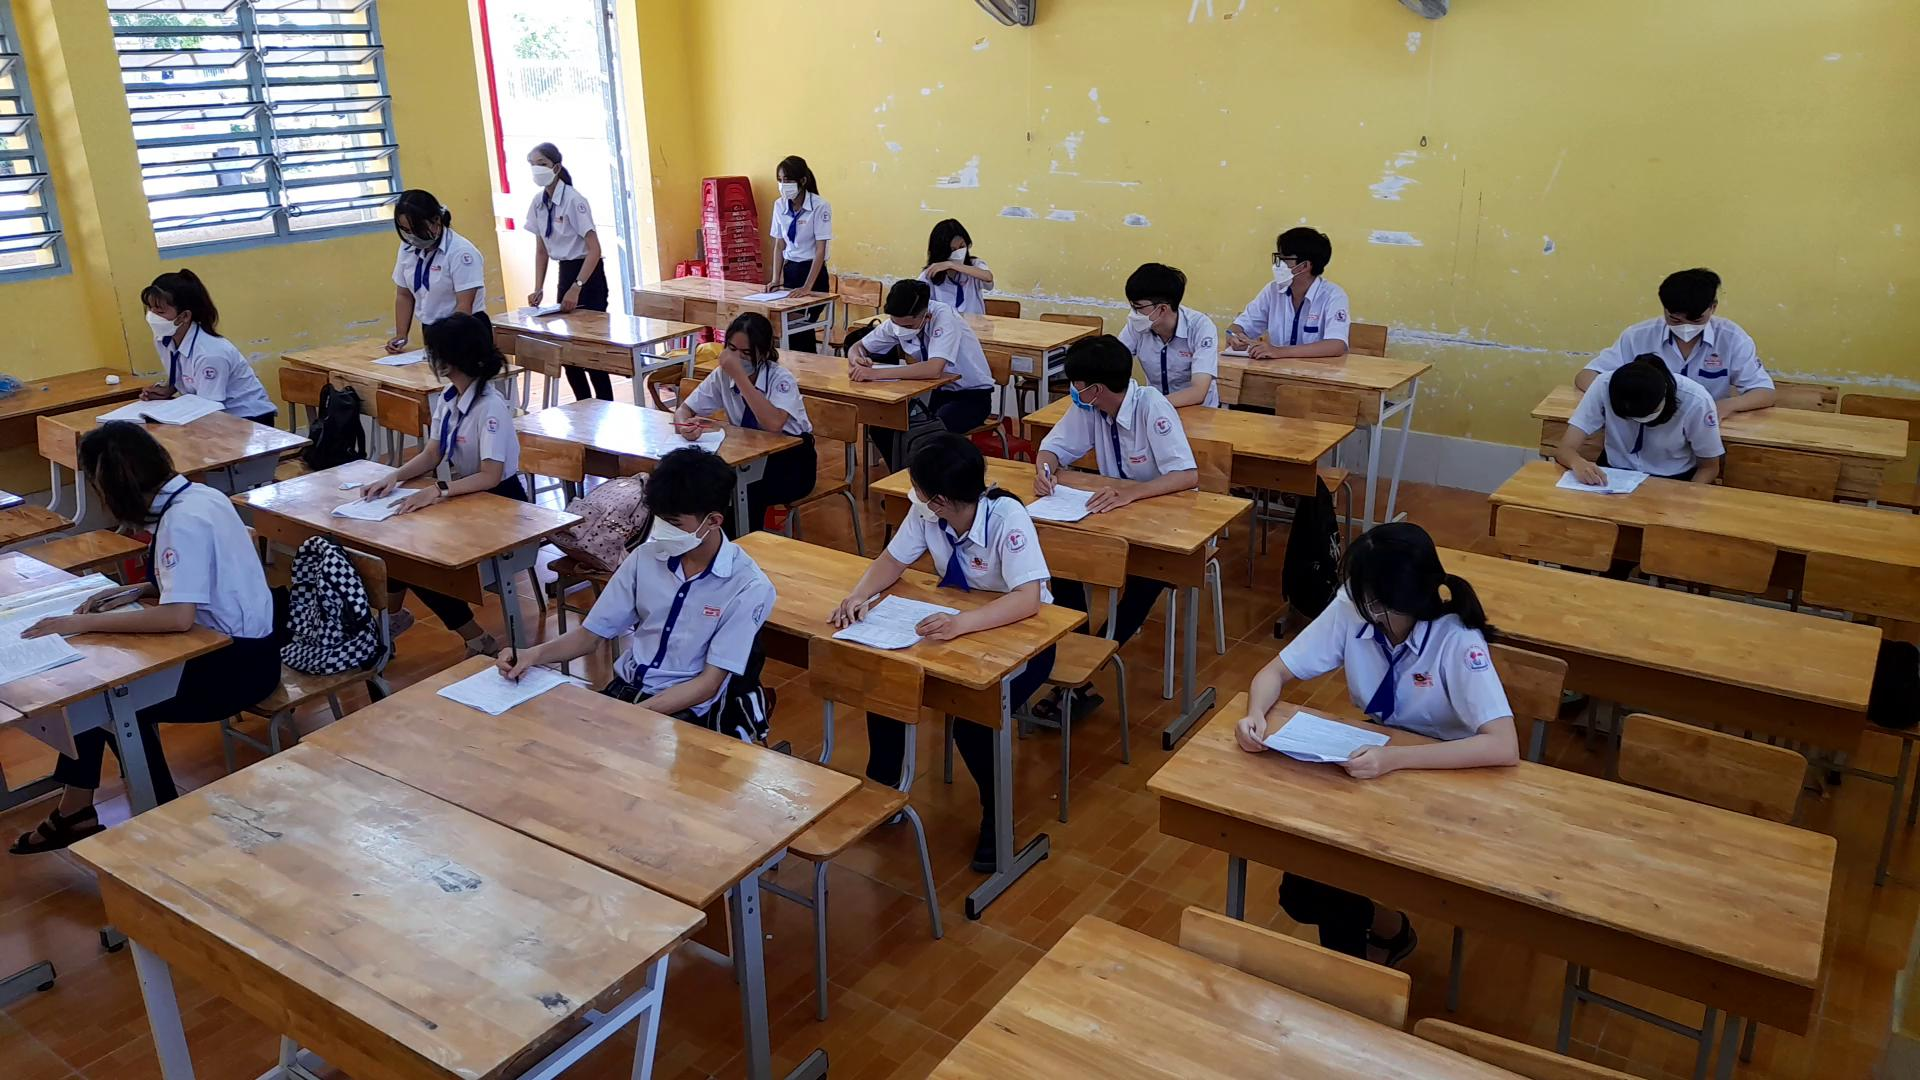Bend Over The Desk: (1593, 336, 1692, 434)
Hand Under Table: (1687, 380, 1731, 496), (181, 347, 231, 427)
Look Around: (1328, 512, 1453, 634), (901, 425, 996, 535), (1044, 307, 1137, 419), (414, 291, 506, 402), (1255, 200, 1346, 295)
Normal: (841, 255, 986, 404)
Stand Up: (493, 135, 615, 311), (738, 141, 833, 302), (375, 185, 487, 313)
Wave: (703, 347, 796, 448)
